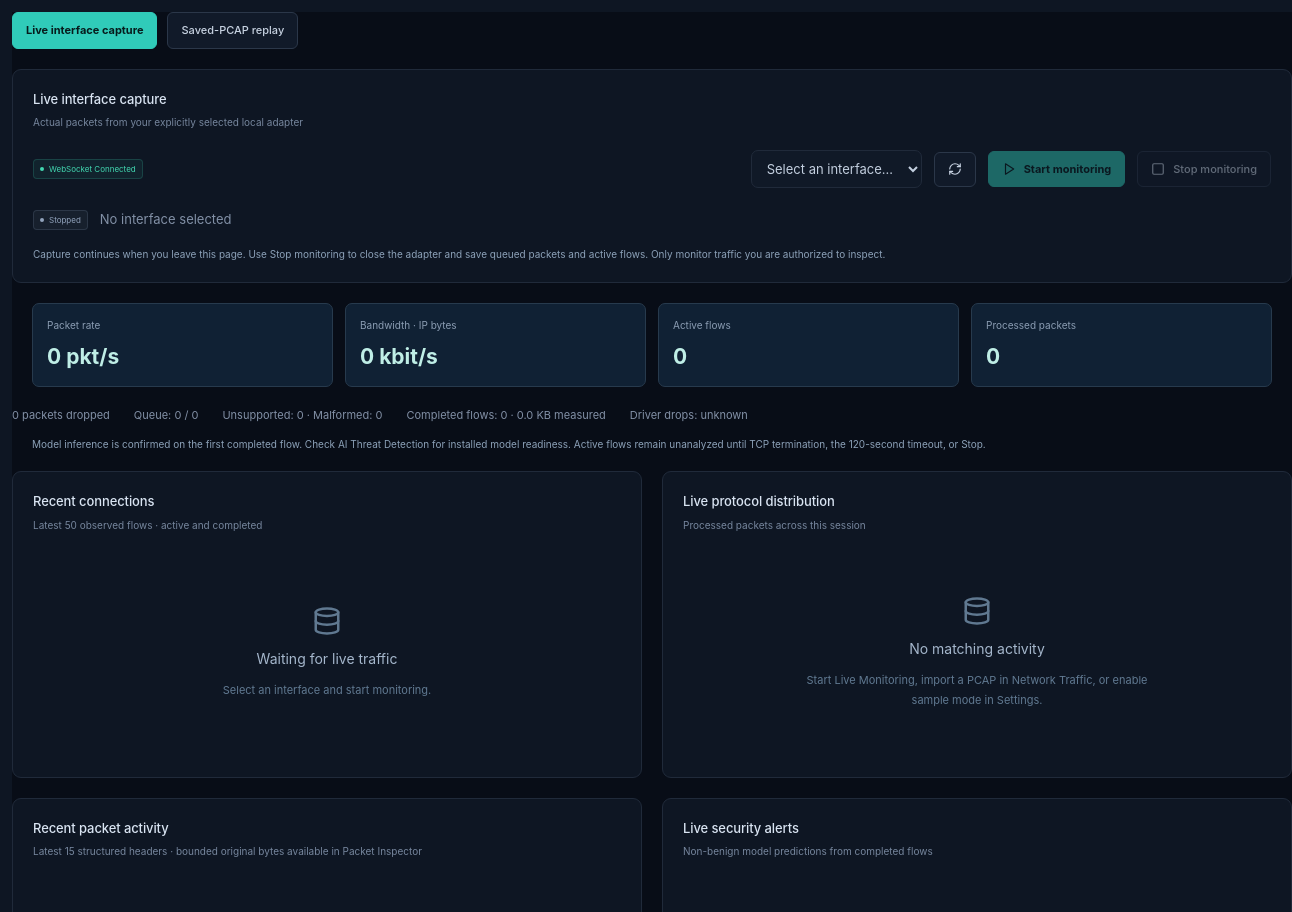
Test case: does not overwrite a newer stopped snapshot with a delayed stop response
The image size is (1292, 912).
Select "Wi-Fi · 192.168.1.2" in the dropdown named "Capture interface" at (836, 169), box [751,150,922,188]
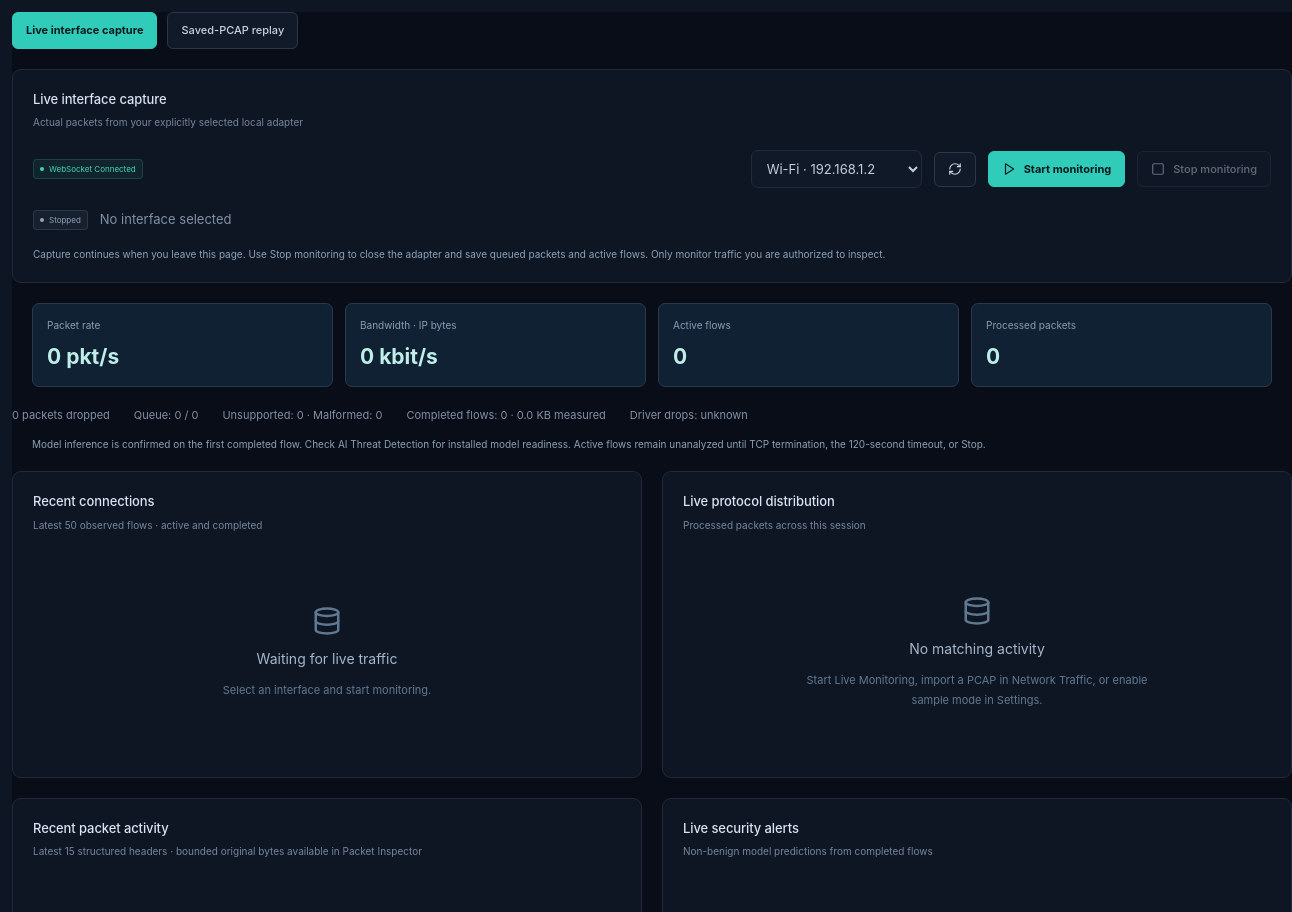
Click the button "Start monitoring" at (1056, 169), box [988,151,1125,187]
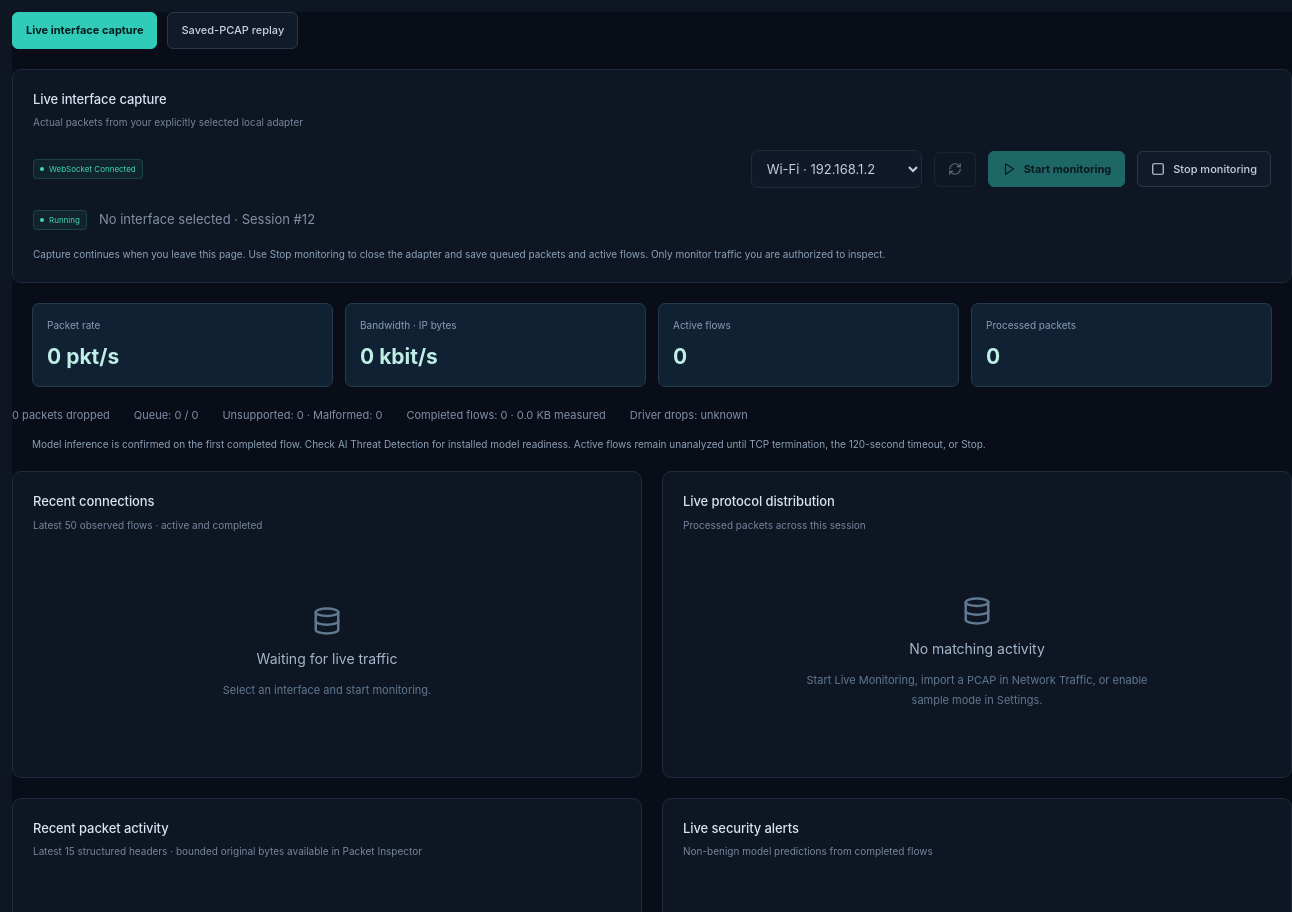
Expected: the button "Stop monitoring" is enabled
Click the button "Stop monitoring" at (1204, 169), box [1137,151,1271,187]
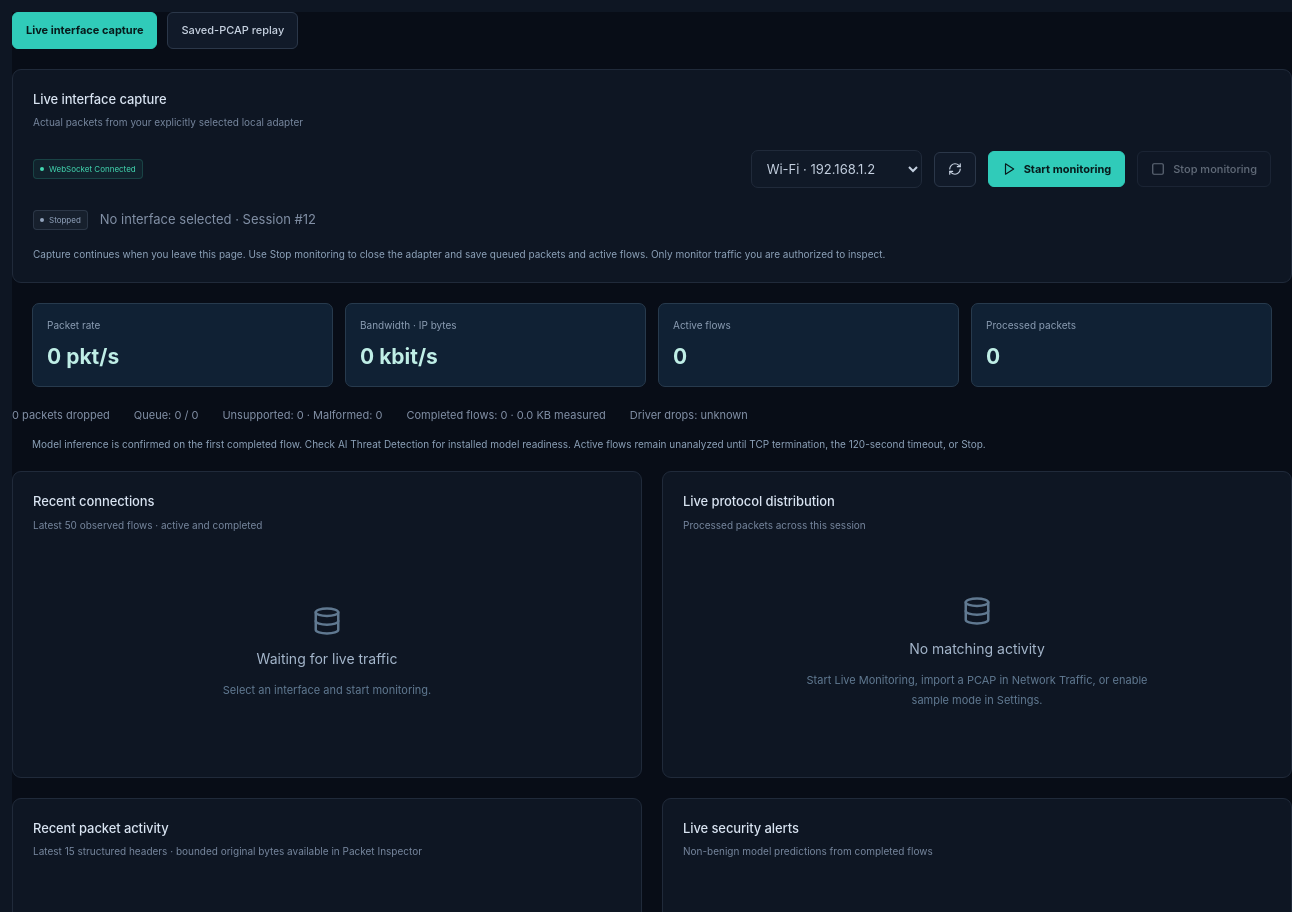
Expected: the button "Start monitoring" is enabled, [988,151,1125,187]
